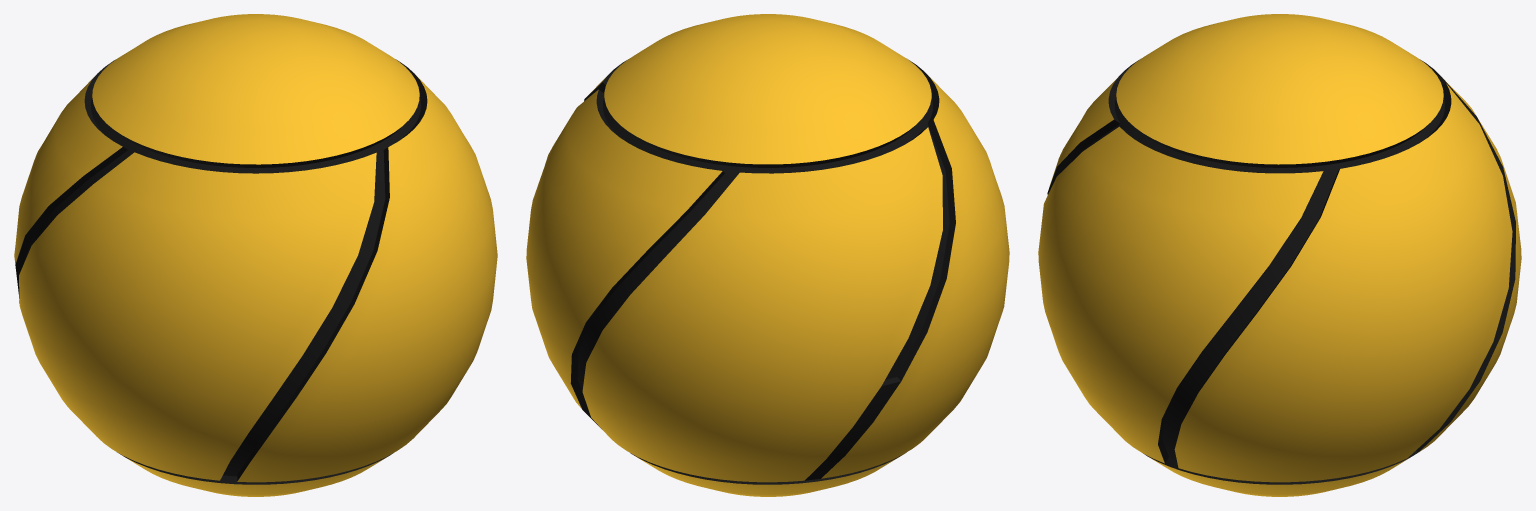
File: Tetherball_ball2.5.glb
The picture shows the model from 3 angles, left to right: view 1: azimuth 30°, elevation 25°; view 2: azimuth 150°, elevation 25°; view 3: azimuth 270°, elevation 25°; orthographic projection.
Visible parts, largest first — view 1: Sphere; view 2: Sphere; view 3: Sphere.
Part boxes in pixels (left/top/right/bottom): Sphere: left=14, top=14, right=497, bottom=496; Sphere: left=526, top=14, right=1009, bottom=496; Sphere: left=1038, top=14, right=1521, bottom=496.
Size of the model in its own units: 2.43 by 2.44 by 2.43.
